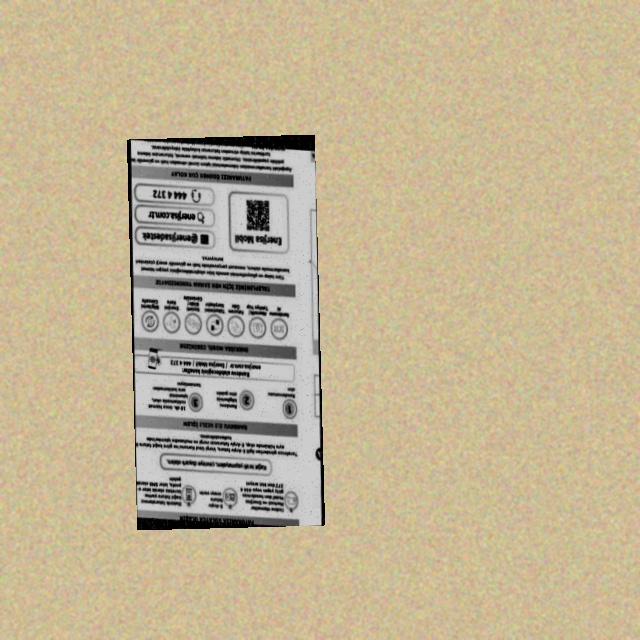electricity-bill: (127, 134, 325, 530)
